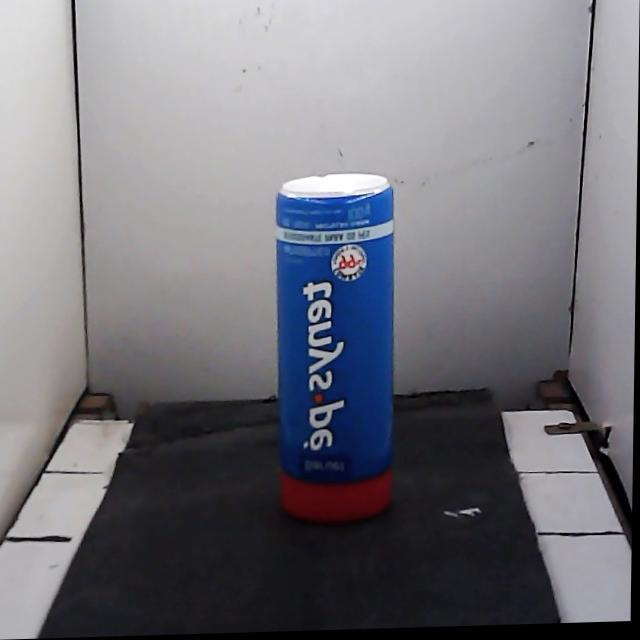plastico: (277, 173, 392, 521)
